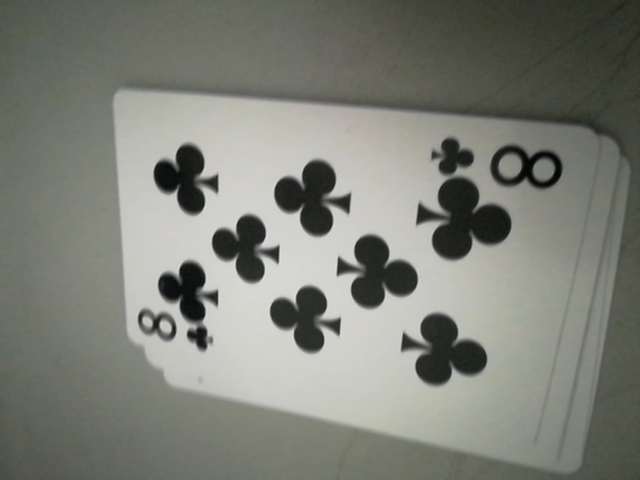mh 8: (427, 131, 567, 189), (132, 308, 215, 355)
